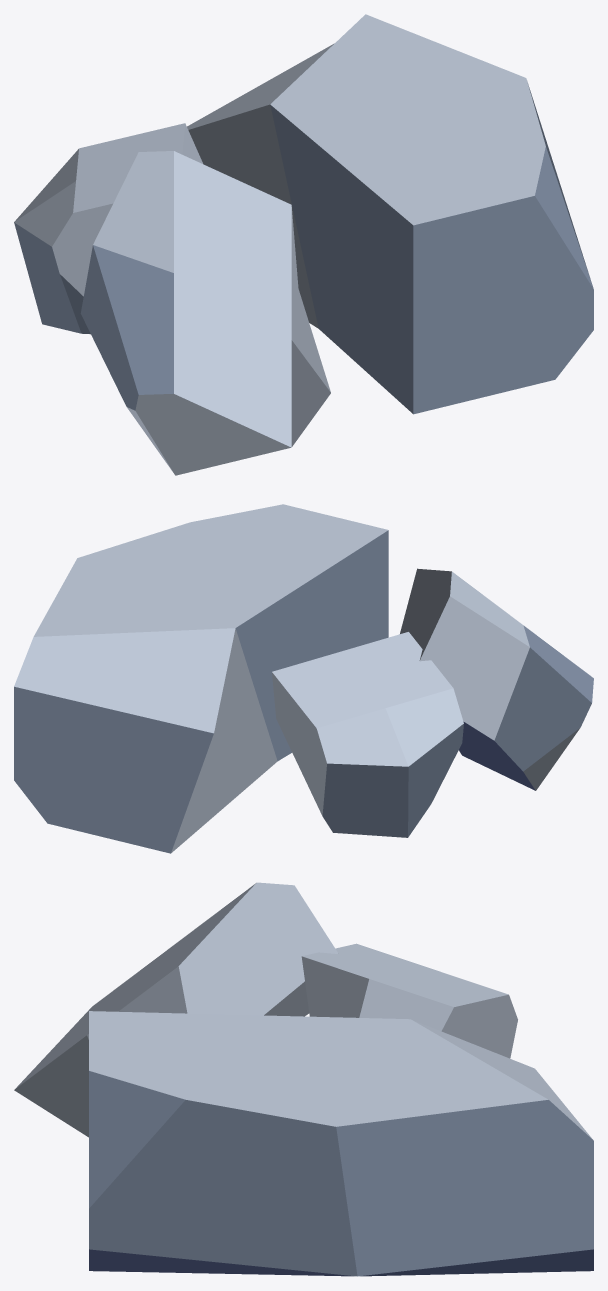
File: ruble.glb
The picture shows the model from 3 angles, top to bottom: view 1: azimuth 30°, elevation 25°; view 2: azimuth 150°, elevation 25°; view 3: azimuth 270°, elevation 25°; orthographic projection. The views are drawn at different scales.
Parts seen in each view (by area): view 1: Ruble; view 2: Ruble; view 3: Ruble.
Part boxes in pixels (<box>): Ruble: <box>14,14,593,475</box>; Ruble: <box>14,504,593,853</box>; Ruble: <box>14,882,593,1276</box>.
Bounding box in the file's own units: 1.13 × 0.612 × 1.15.
1 material, 1 textured.
